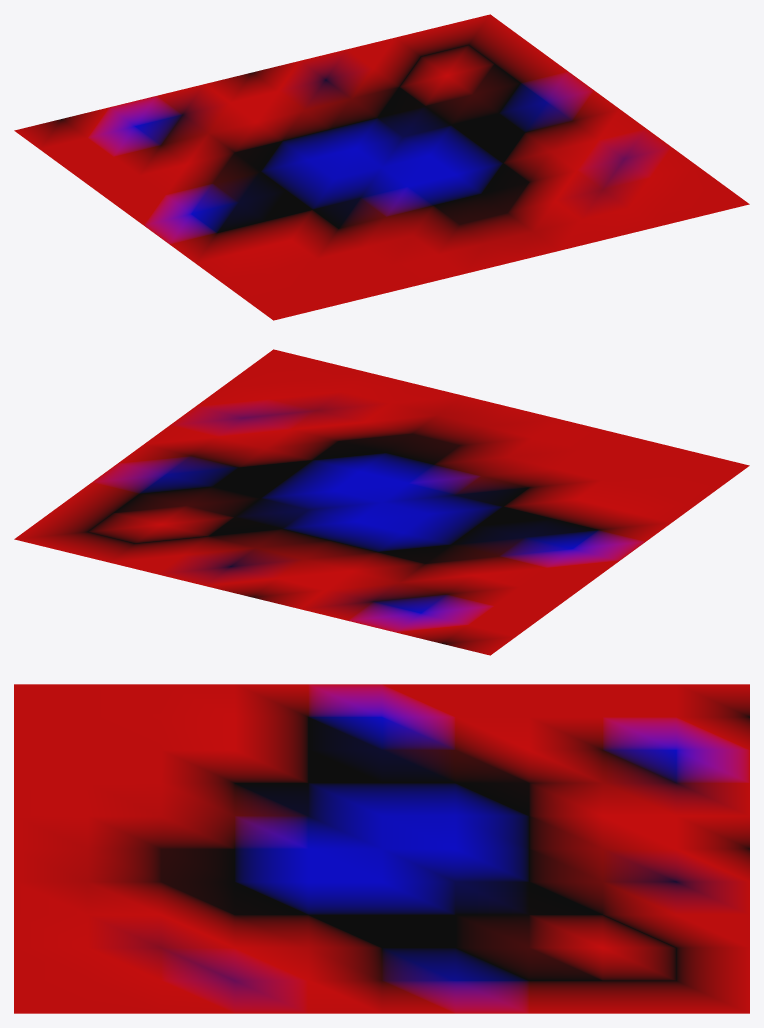
Rendered from C_GroundCombat.FBX.
3 views of the same model, one above another, from view 1: azimuth 30°, elevation 25°; view 2: azimuth 150°, elevation 25°; view 3: azimuth 270°, elevation 25° (orthographic). The views are drawn at different scales.
Visible parts, largest first — view 1: Plane021; view 2: Plane021; view 3: Plane021.
Part boxes in pixels (<box>): Plane021: <box>14,14,749,320</box>; Plane021: <box>14,349,749,655</box>; Plane021: <box>14,684,749,1013</box>.
Size of the model in its own units: 9658 by 5.58e-13 by 9115.
